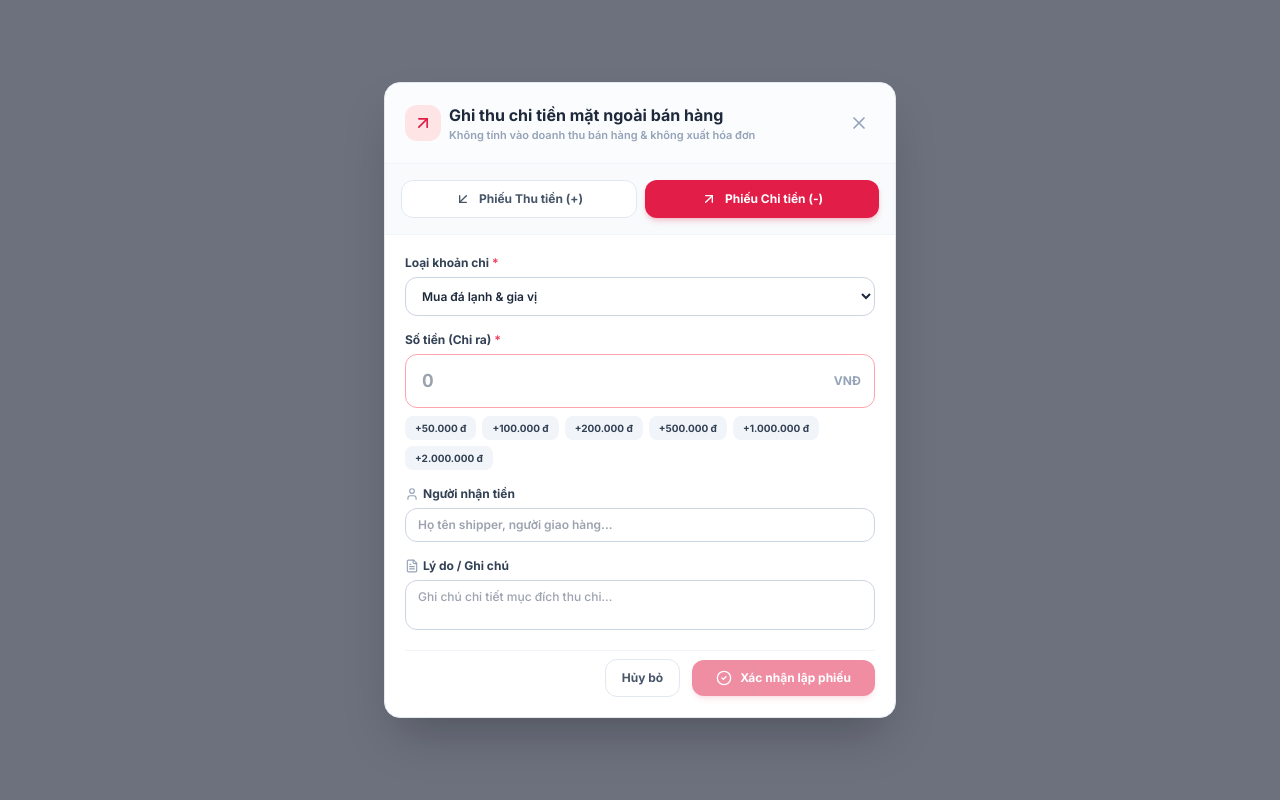
Test: NCL-03-CN-014: Ghi thu chi tiền mặt ngoài bán hàng trong ca › TC-02: Cơ chế kiểm soát hạn mức duyệt chi (> 500k) và phê duyệt của Chủ hộ › hiển thị cảnh báo duyệt khi số tiền chi vượt hạn mức 500.000đ
Type "800000" into the field with placeholder "0".
click(640, 381); type("800000")  # box left=405, top=354, right=875, bottom=408
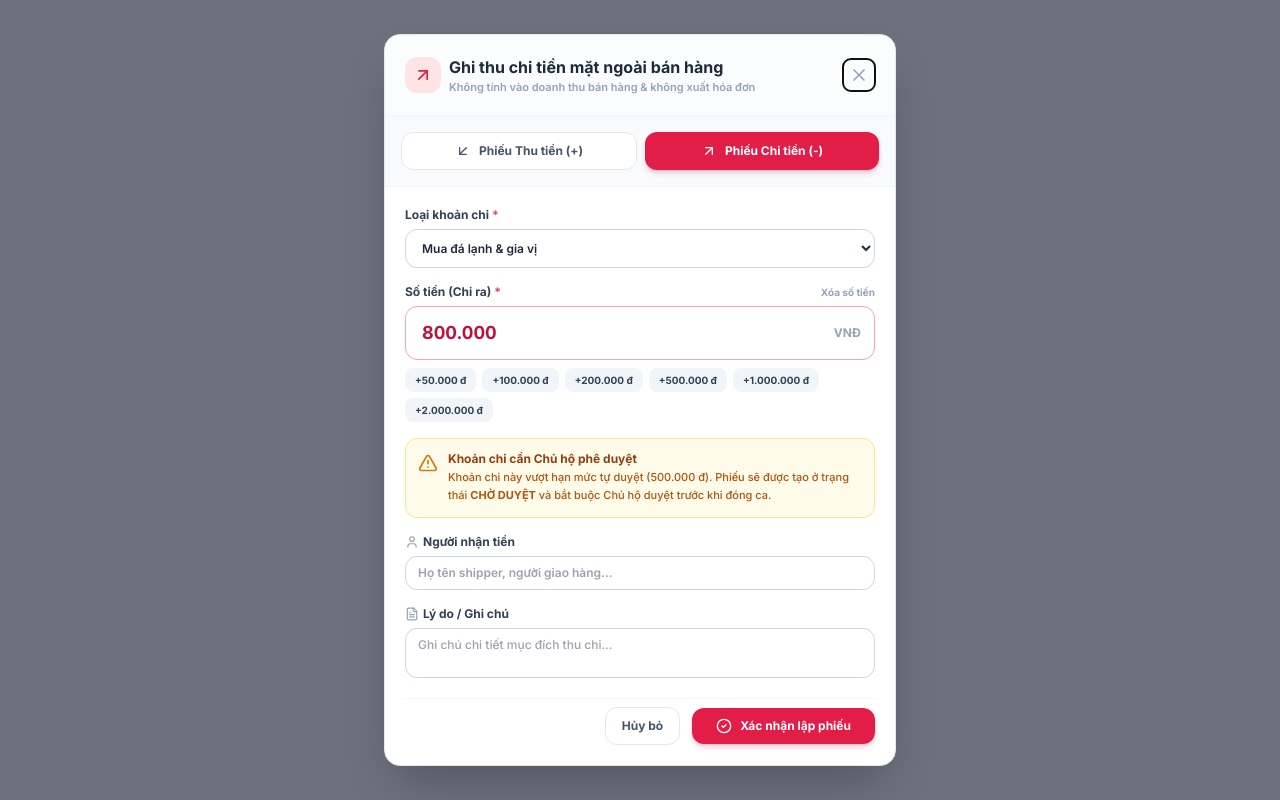
Result: the text "Khoản chi cần Chủ hộ phê duyệt" is shown at left=448, top=451, right=637, bottom=466
Result: the text "vượt hạn mức tự duyệt" is shown at left=448, top=470, right=650, bottom=484
